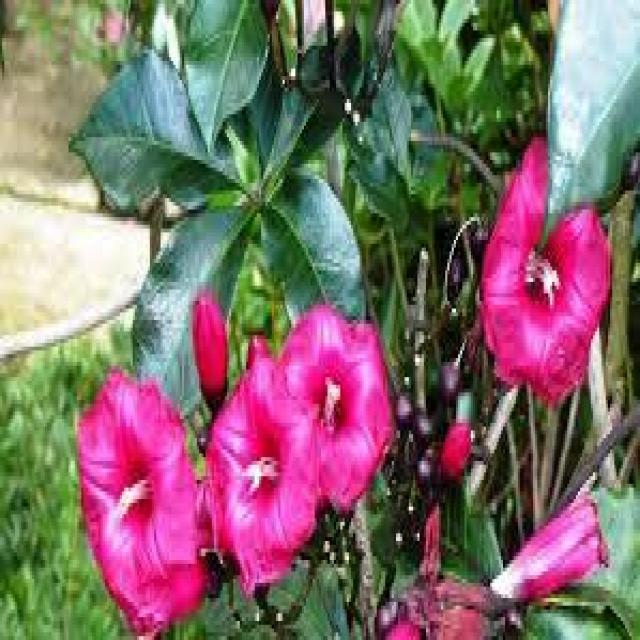organic waste: (475, 129, 610, 404), (74, 371, 221, 619), (203, 354, 330, 594), (268, 304, 391, 506)
